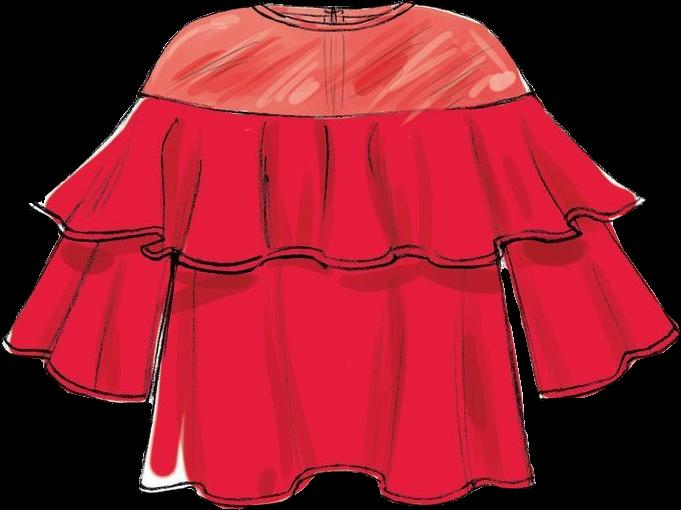Bodice: (33, 2, 643, 508)
Neckline: (137, 90, 534, 121), (256, 2, 405, 29)
Sleeve: (503, 214, 679, 398), (2, 231, 171, 402)
Sleeveline: (501, 215, 614, 258), (59, 229, 176, 261)
Waistline: (29, 196, 645, 274), (139, 466, 535, 505)
